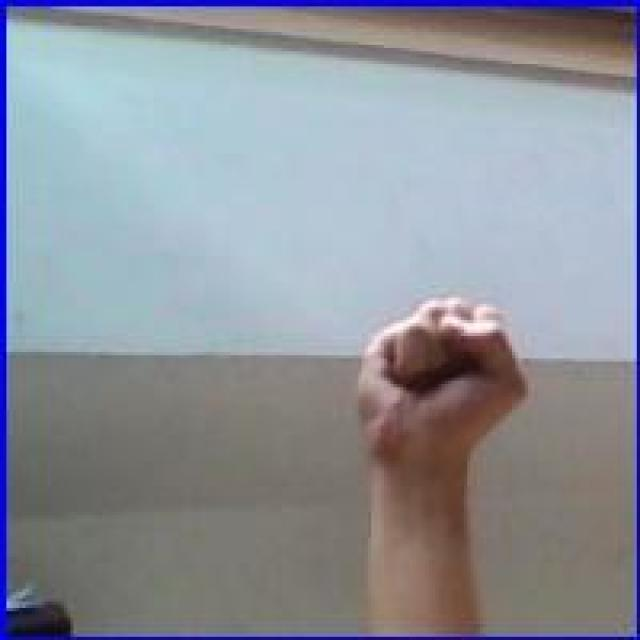S: (349, 288, 531, 477)
